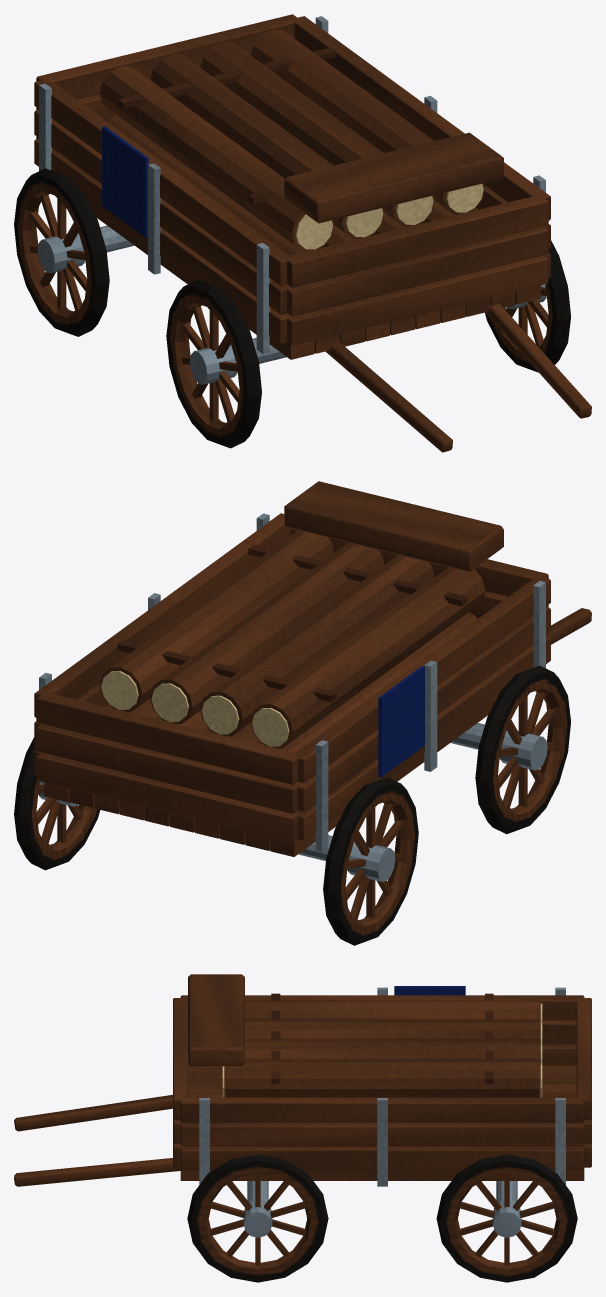
The model's file is KOD_TradingWagon.fbx.
The picture shows the model from 3 angles, top to bottom: view 1: azimuth 30°, elevation 25°; view 2: azimuth 150°, elevation 25°; view 3: azimuth 270°, elevation 25°; orthographic projection. The views are drawn at different scales.
Parts seen in each view (by area): view 1: KOD_TradingWagon_LOD0, Wheel_LF_LOD0, Wheel_LB_LOD0, Wheel_RF_LOD0; view 2: KOD_TradingWagon_LOD0, Wheel_LF_LOD0, Wheel_LB_LOD0, Wheel_RB_LOD0; view 3: KOD_TradingWagon_LOD0, Wheel_RF_LOD0, Wheel_RB_LOD0.
Boxes of the visible parts, left/top/right/bottom form: KOD_TradingWagon_LOD0: left=34, top=14, right=591, bottom=452; Wheel_LF_LOD0: left=166, top=280, right=261, bottom=448; Wheel_LB_LOD0: left=14, top=168, right=109, bottom=336; Wheel_RF_LOD0: left=485, top=240, right=570, bottom=372; KOD_TradingWagon_LOD0: left=34, top=481, right=591, bottom=860; Wheel_LF_LOD0: left=475, top=665, right=570, bottom=834; Wheel_LB_LOD0: left=323, top=777, right=418, bottom=945; Wheel_RB_LOD0: left=14, top=737, right=100, bottom=870; KOD_TradingWagon_LOD0: left=14, top=974, right=591, bottom=1202; Wheel_RF_LOD0: left=187, top=1154, right=328, bottom=1282; Wheel_RB_LOD0: left=436, top=1154, right=577, bottom=1282.
Size of what is drawn, in the model's own units: 2.71 by 1.96 by 4.87.
Materials: 6 (6 with a texture image).
